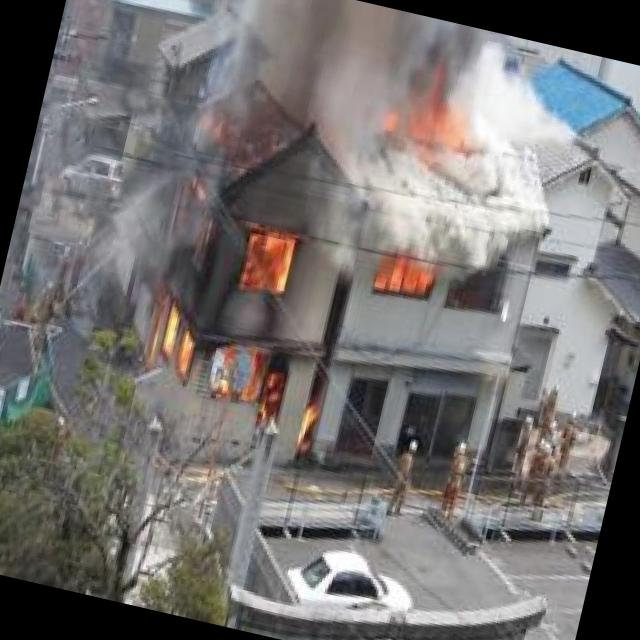Fire: (130, 156, 332, 418), (372, 64, 496, 159), (370, 250, 442, 310)
Smoke: (208, 0, 602, 263)
